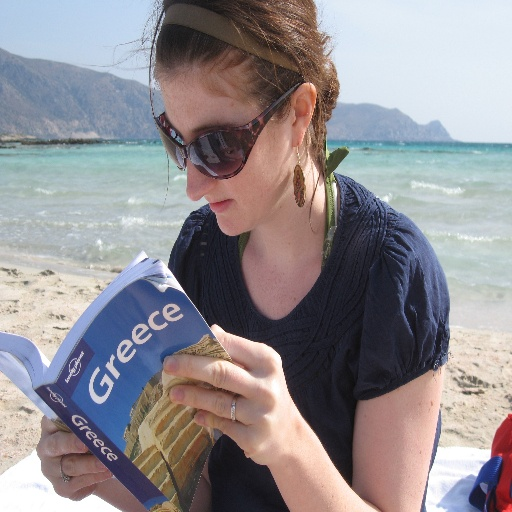hand: (160, 334, 333, 469), (35, 414, 115, 503)
